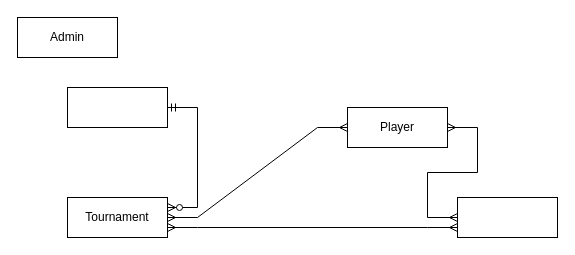
This 575x255 diagram has some shape labels left out. The centre of each missing label's shape, as x and y in pixels:
"Match" belongs at point (507, 217).
"Tournament Organizer" belongs at point (117, 107).
